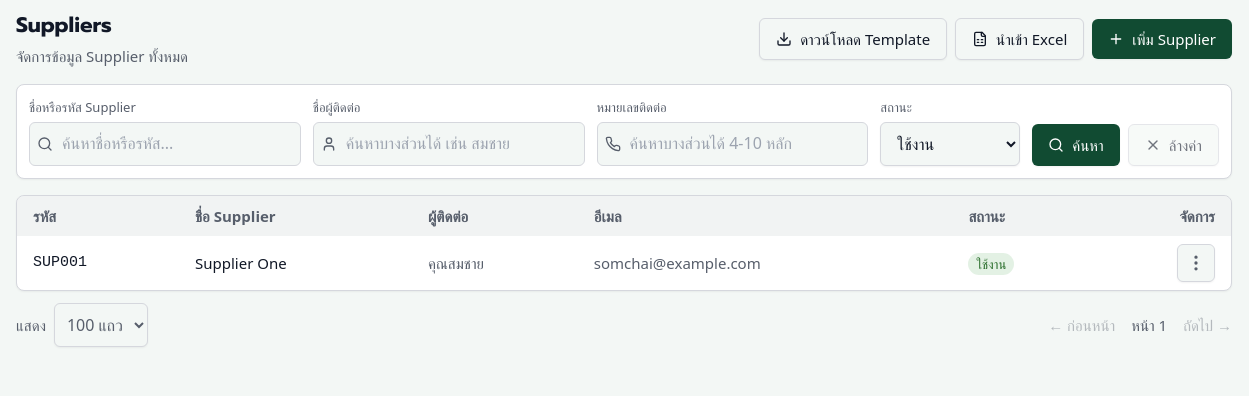
Test: Suppliers — contact and status filters (round 8-20D) › blocks the whole apply when the number is invalid, even with other filters set
This screenshot has width=1249, height=396.
Expected: the text "SUP001" is shown, [17,236,179,290]
In the search field labelled "ชื่อหรือรหัส Supplier": (165, 144) [29,122,301,166], type "SUP0"
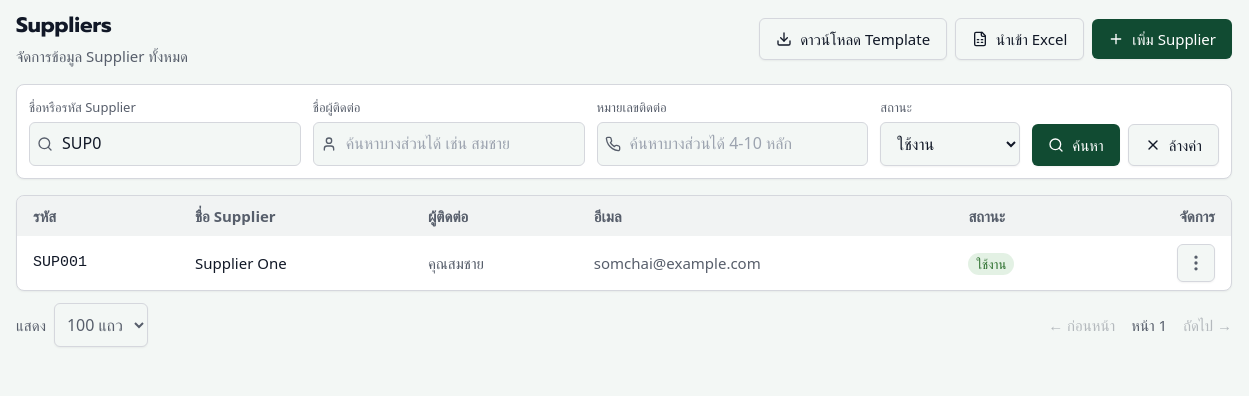
In the field labelled "หมายเลขติดต่อ": (732, 144) [597,122,868,166], type "55"
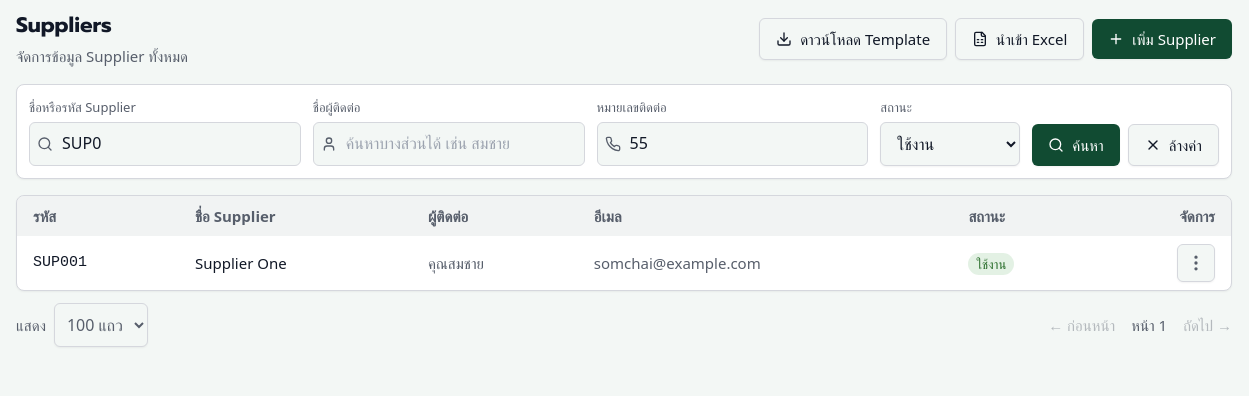
Click the button "ค้นหา": click(1076, 145) [1032,124,1120,166]
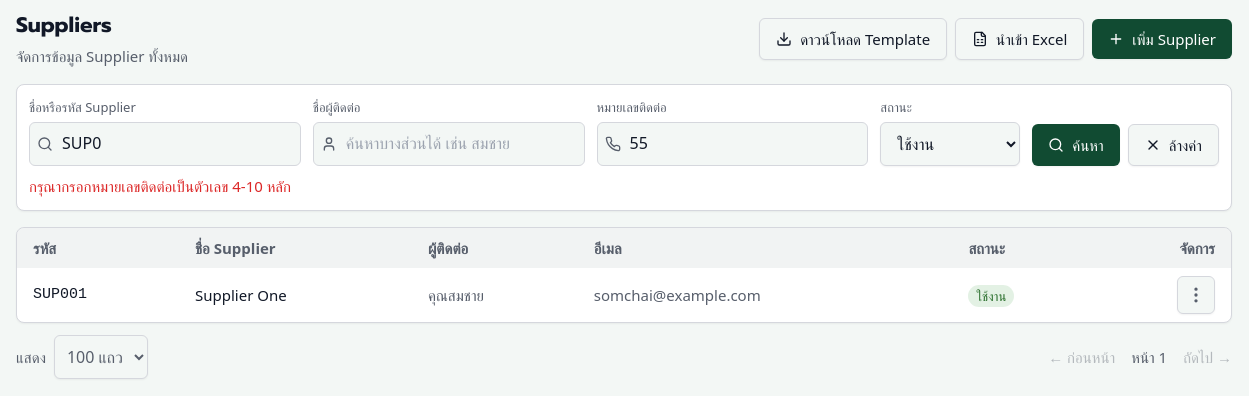
Result: the message "กรุณากรอกหมายเลขติดต่อเป็นตัวเลข 4-10 หลัก" is shown at [29,176,291,196]
